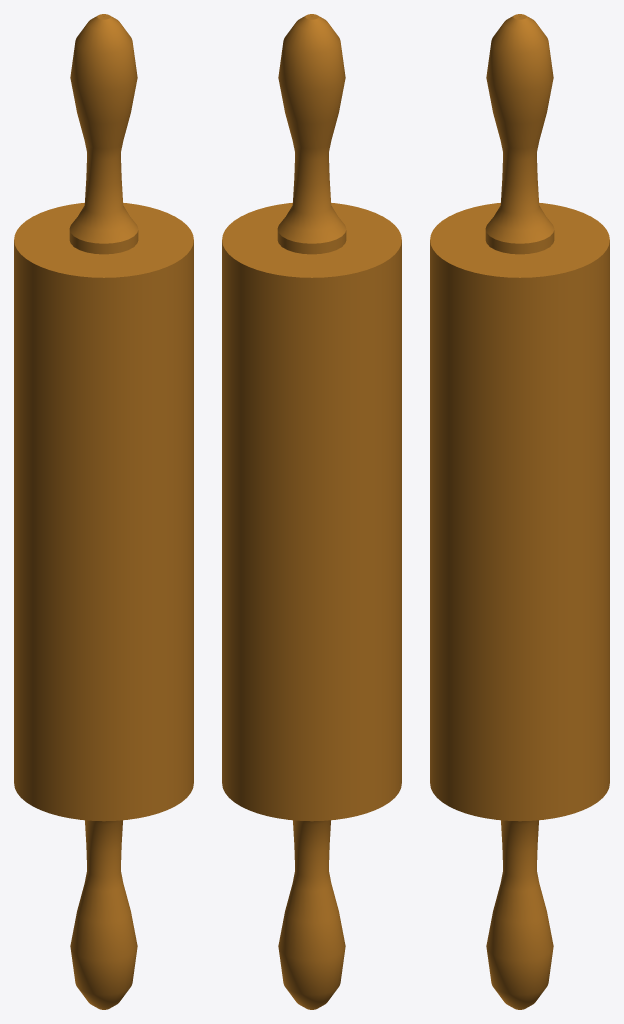
The picture shows the model from 3 angles, left to right: view 1: azimuth 30°, elevation 25°; view 2: azimuth 150°, elevation 25°; view 3: azimuth 270°, elevation 25°; orthographic projection.
Bounding box in the file's own units: 0.1646 × 1 × 0.1646.
